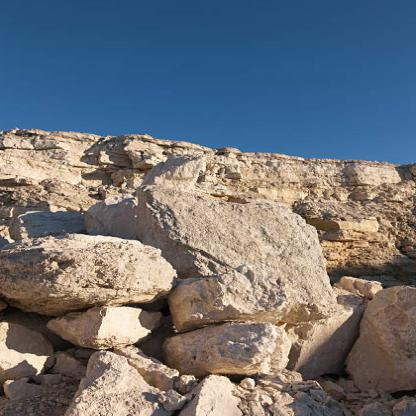Sedimentary_Limestone: (78, 158, 346, 370), (6, 230, 180, 320), (348, 282, 415, 401), (158, 322, 299, 378), (76, 346, 176, 416), (48, 307, 174, 354), (185, 368, 251, 415)
